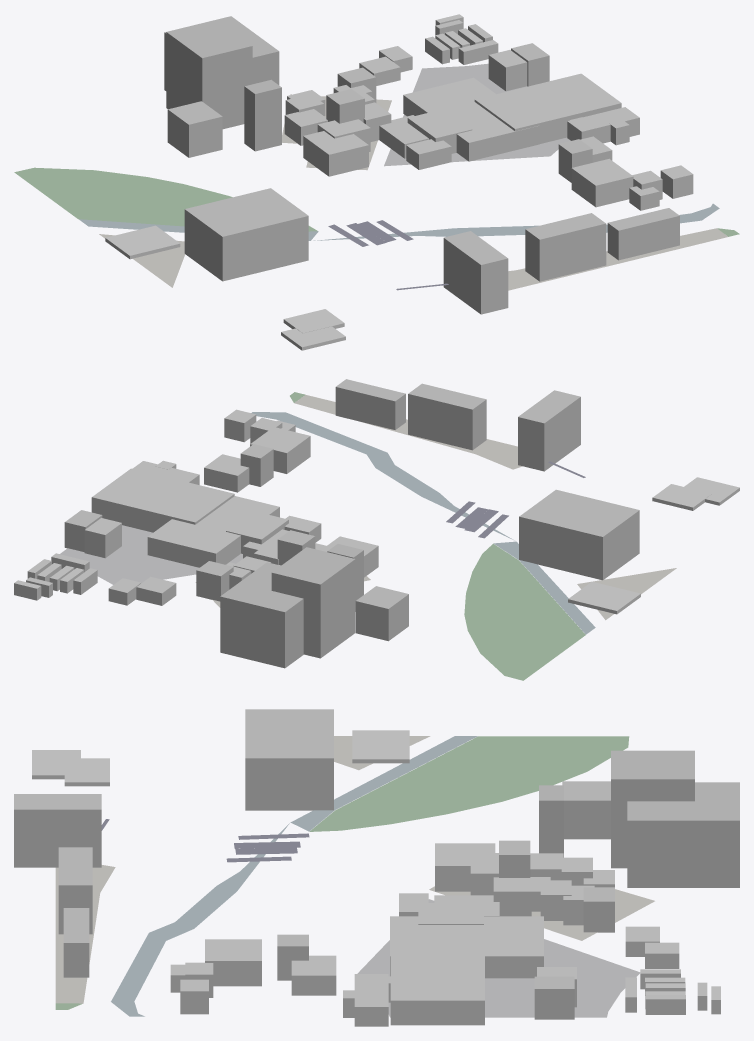
The model's file is 124_75_mid.glb.
3 views of the same model, one above another, from view 1: azimuth 30°, elevation 25°; view 2: azimuth 150°, elevation 25°; view 3: azimuth 270°, elevation 25° (orthographic). The views are drawn at different scales.
Bounding box in the file's own units: 519 × 74.68 × 546.
